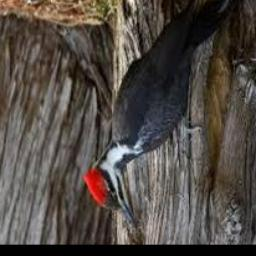Woodpecker: (82, 0, 237, 232)
